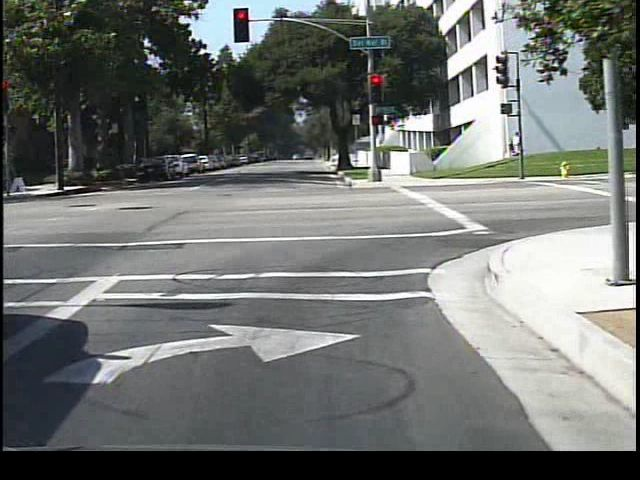person: (500, 128, 524, 174)
